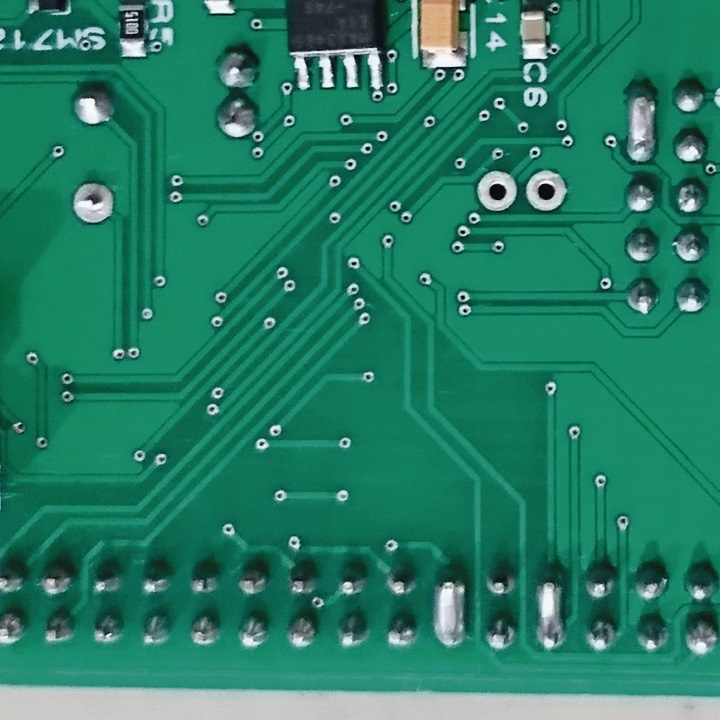F: (71, 180, 117, 235), (524, 166, 570, 217), (475, 168, 518, 215)
P: (529, 563, 570, 656), (619, 80, 663, 166), (429, 566, 470, 651)
